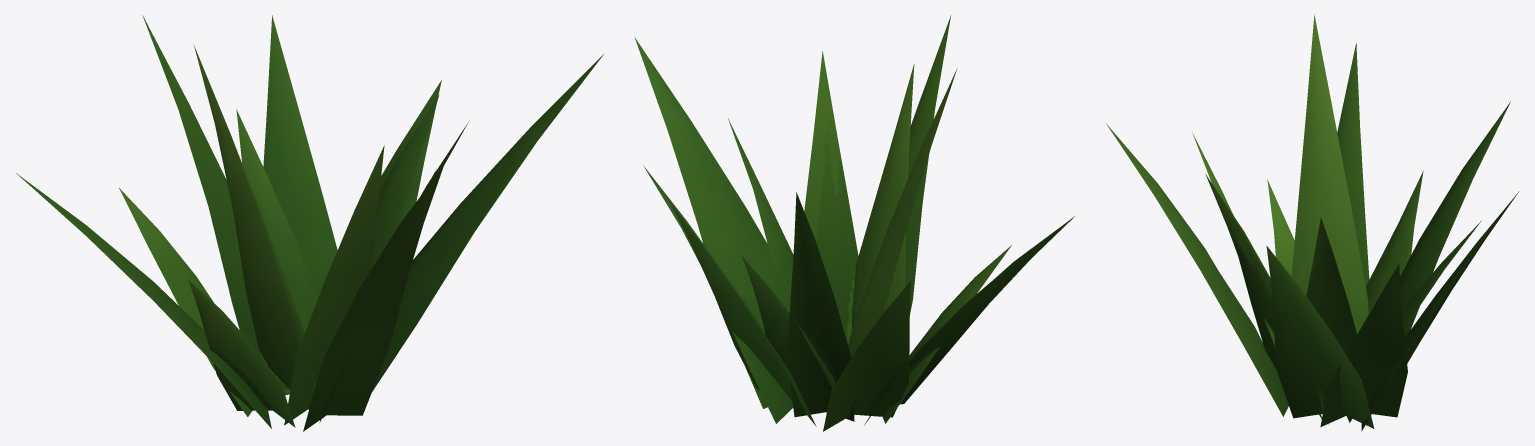
The model's file is grass_tuft_b.glb.
3 views of the same model, side by side, from view 1: azimuth 30°, elevation 25°; view 2: azimuth 150°, elevation 25°; view 3: azimuth 270°, elevation 25° (orthographic). The views are drawn at different scales.
Parts seen in each view (by area): view 1: grass_tuft_b; view 2: grass_tuft_b; view 3: grass_tuft_b.
Boxes of the visible parts, x1=… form: grass_tuft_b: x1=16, y1=15, x2=604, y2=431; grass_tuft_b: x1=634, y1=15, x2=1074, y2=431; grass_tuft_b: x1=1106, y1=14, x2=1519, y2=431.
Bounding box in the file's own units: 0.3669 × 0.2574 × 0.2849.
Materials: 1 (1 with a texture image).
